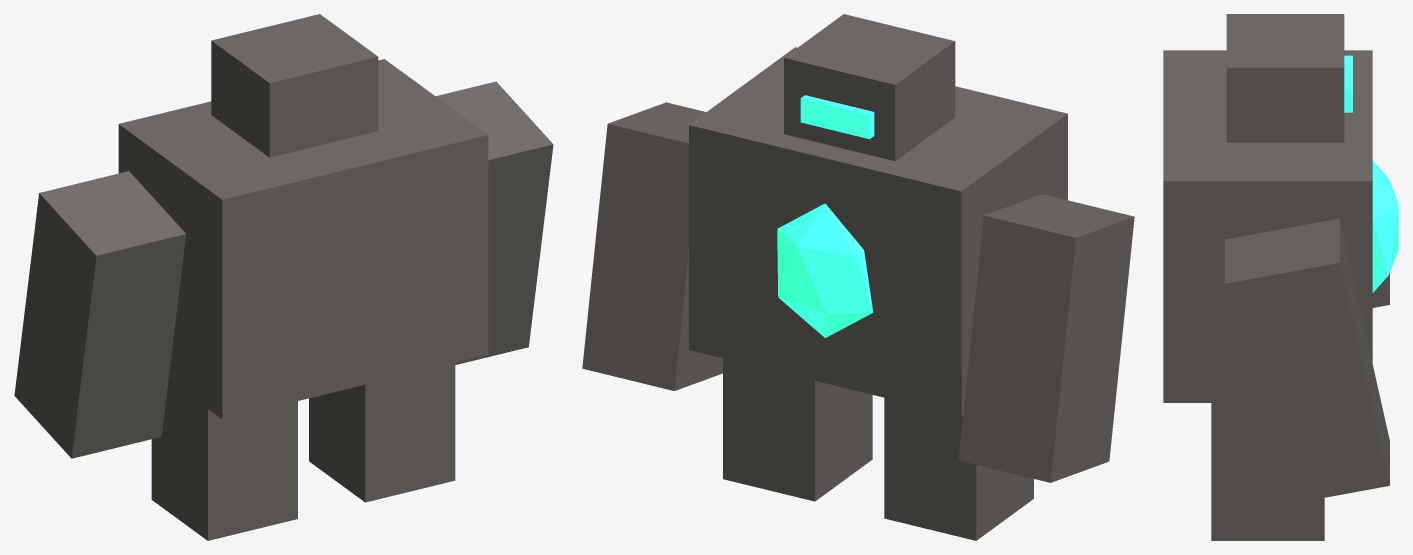
The model's file is monster-golem.glb.
3 renders of one model, left to right at view 1: azimuth 30°, elevation 25°; view 2: azimuth 150°, elevation 25°; view 3: azimuth 270°, elevation 25°, orthographic. The views are drawn at different scales.
Parts seen in each view (by area): view 1: Mon_Golem; view 2: Mon_Golem; view 3: Mon_Golem.
Part boxes in pixels (x1=…): Mon_Golem: x1=14, y1=14, x2=553, y2=540; Mon_Golem: x1=582, y1=14, x2=1134, y2=540; Mon_Golem: x1=1163, y1=14, x2=1398, y2=540.
Bounding box in the file's own units: 2.44 × 2.22 × 1.08.
